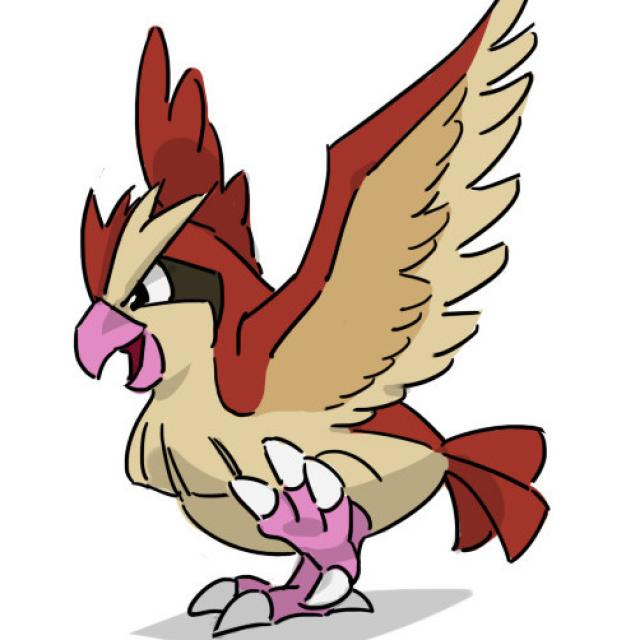Pidgey: (77, 30, 503, 599)
